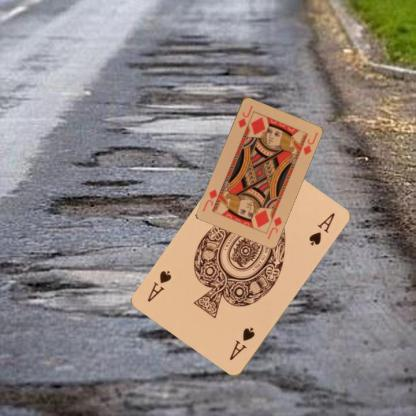As: (226, 325, 256, 362)
Jd: (235, 103, 254, 129), (265, 214, 283, 240)
